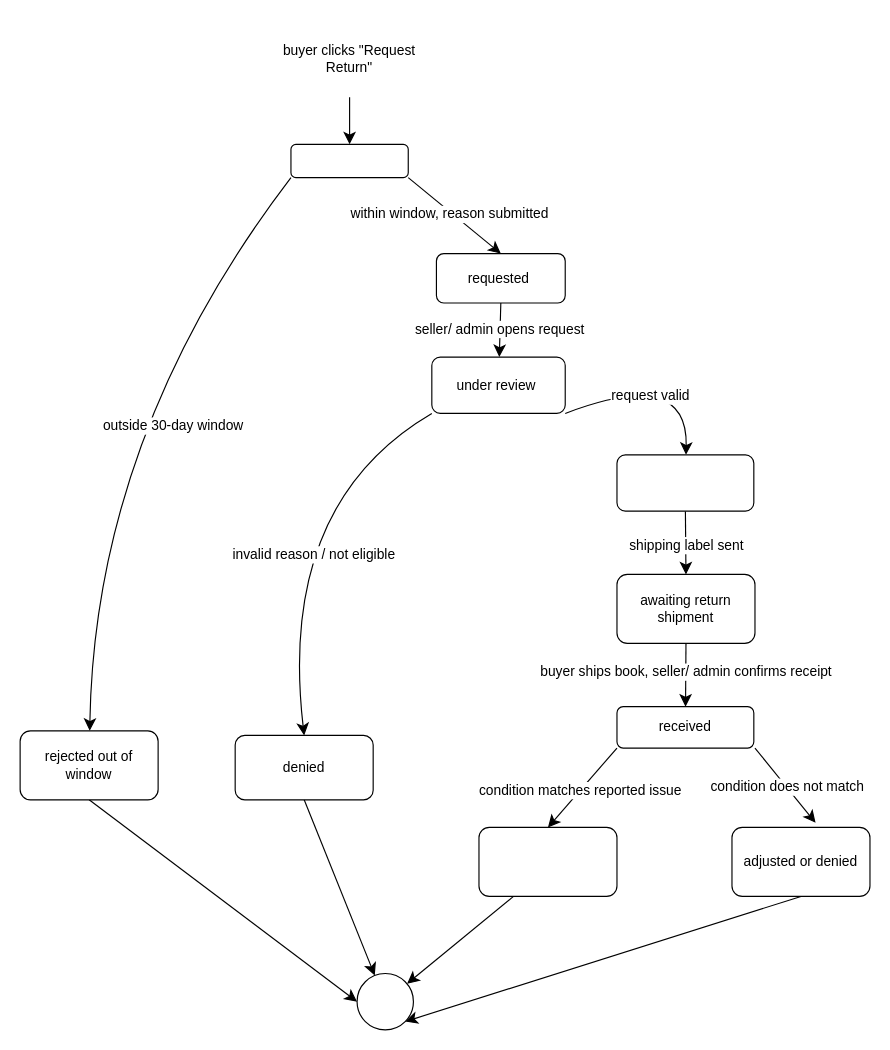
The diagram is 890 pixels wide and 1050 high, and some of its shapes have lost their labels. The shapes that lost their labels are listed below. From the top down, each one's centre as x and y in pixels, then its label:
point 349,160: Eligibility check
point 685,482: approved
point 547,861: refunded
point 384,1001: end
